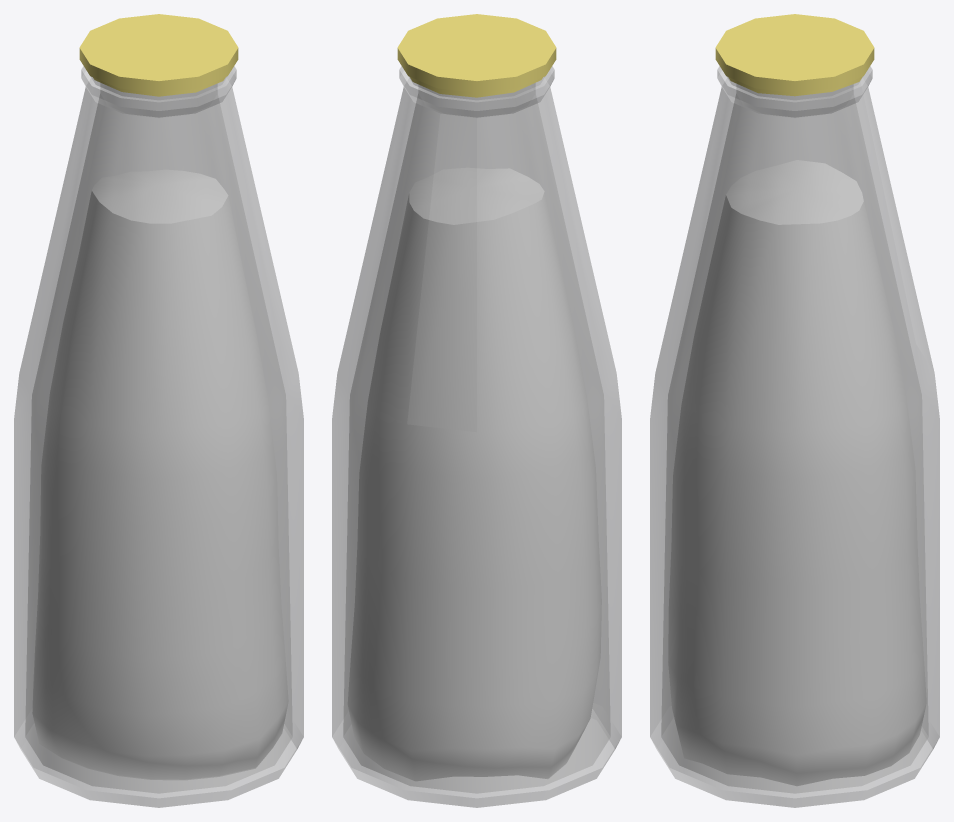
The model's file is milk.fbx.
3 renders of one model, left to right at view 1: azimuth 30°, elevation 25°; view 2: azimuth 150°, elevation 25°; view 3: azimuth 270°, elevation 25°, orthographic.
Parts seen in each view (by area): view 1: bottle_low, pCylinder1, cap_low; view 2: bottle_low, pCylinder1, cap_low; view 3: bottle_low, pCylinder1, cap_low.
Part boxes in pixels (x1=…): bottle_low: x1=14, y1=66, x2=303, y2=807; pCylinder1: x1=32, y1=170, x2=288, y2=779; cap_low: x1=79, y1=14, x2=238, y2=96; bottle_low: x1=332, y1=66, x2=621, y2=807; pCylinder1: x1=348, y1=168, x2=601, y2=780; cap_low: x1=397, y1=14, x2=556, y2=97; bottle_low: x1=650, y1=66, x2=939, y2=807; pCylinder1: x1=668, y1=160, x2=926, y2=785; cap_low: x1=715, y1=14, x2=874, y2=96.
Size of the model in its own units: 14.34 by 38.32 by 14.34.
3 materials, 1 textured.
